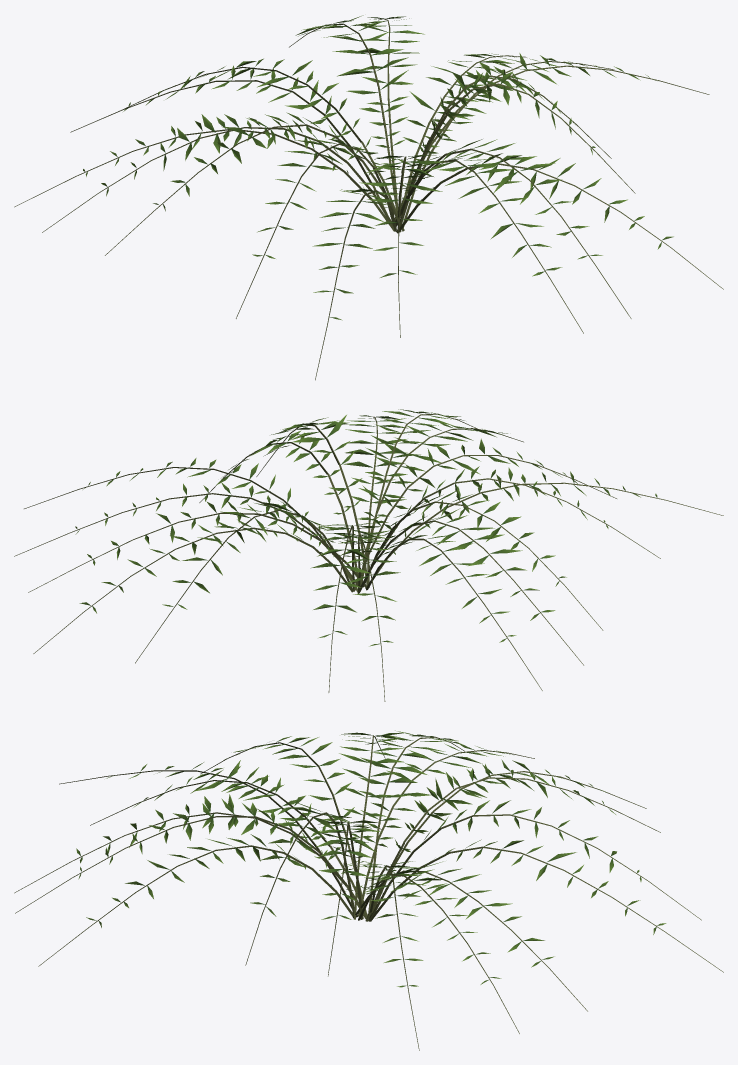
Rendered from forest_fern_002_c_LOD2.gltf.
3 renders of one model, top to bottom at view 1: azimuth 30°, elevation 25°; view 2: azimuth 150°, elevation 25°; view 3: azimuth 270°, elevation 25°, orthographic. The views are drawn at different scales.
Visible parts, largest first — view 1: forest_fern_002_c_LOD2; view 2: forest_fern_002_c_LOD2; view 3: forest_fern_002_c_LOD2.
Boxes of the visible parts, box(x1,y1,x2,y2) form: forest_fern_002_c_LOD2: box(14, 15, 723, 380); forest_fern_002_c_LOD2: box(14, 409, 723, 701); forest_fern_002_c_LOD2: box(14, 730, 723, 1050).
Size of the model in its own units: 4.76 by 1.08 by 4.8.
1 material, 1 textured.
